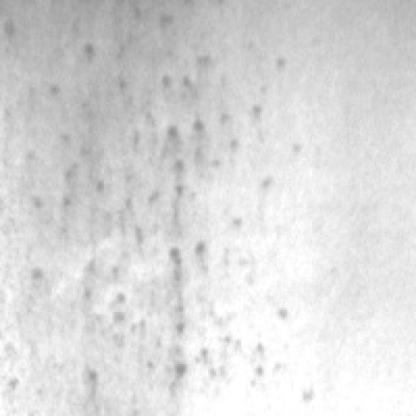pitted_surface: (50, 42, 289, 388)
